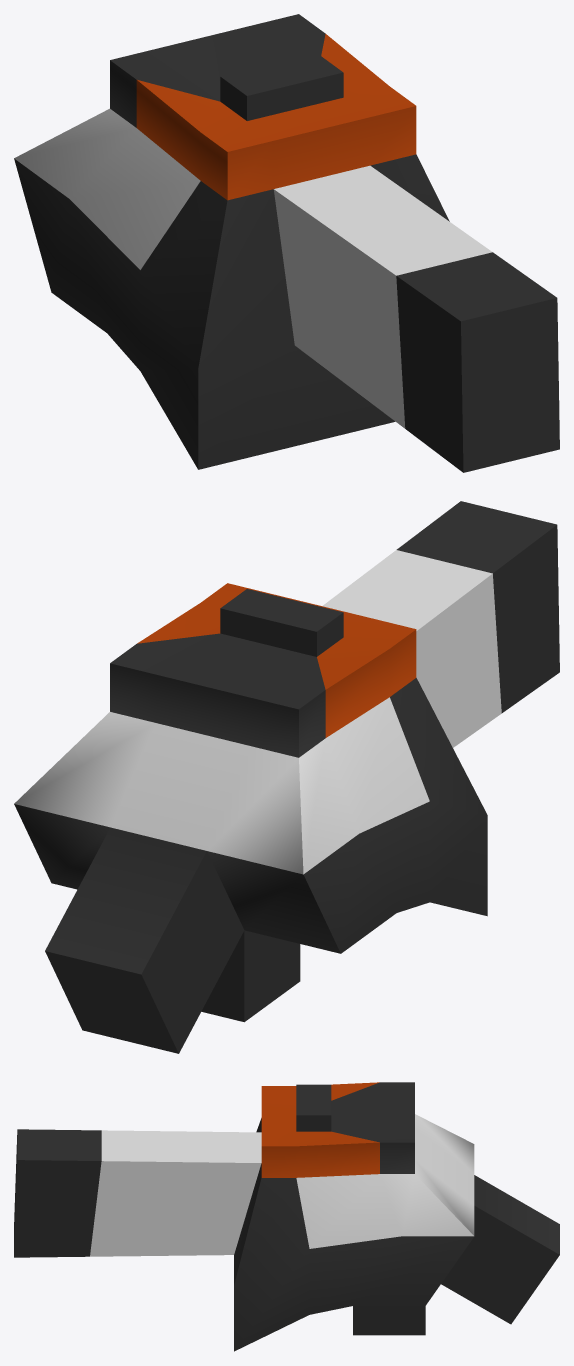
File: Gun_Export.fbx
3 renders of one model, top to bottom at view 1: azimuth 30°, elevation 25°; view 2: azimuth 150°, elevation 25°; view 3: azimuth 270°, elevation 25°, orthographic. The views are drawn at different scales.
Visible parts, largest first — view 1: Gunbase, GunLight; view 2: Gunbase, GunLight; view 3: Gunbase, GunLight.
Part boxes in pixels (box(x1,y1,x2,y2)): Gunbase: box(14, 14, 559, 472); GunLight: box(396, 252, 517, 445); Gunbase: box(14, 501, 559, 1053); GunLight: box(396, 531, 524, 713); Gunbase: box(14, 1082, 559, 1351); GunLight: box(60, 1130, 101, 1256).
Bounding box in the file's own units: 1 × 1.11 × 2.5.
